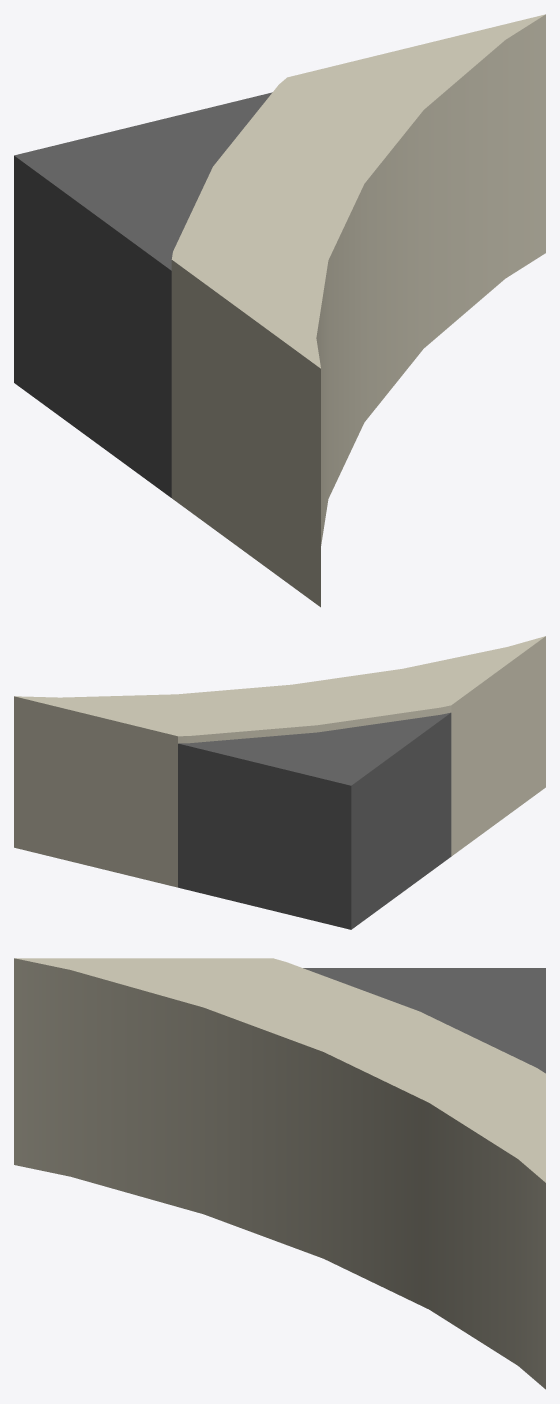
The model's file is tile216.dae.
The picture shows the model from 3 angles, top to bottom: view 1: azimuth 30°, elevation 25°; view 2: azimuth 150°, elevation 25°; view 3: azimuth 270°, elevation 25°; orthographic projection. The views are drawn at different scales.
Parts seen in each view (by area): view 1: tile216; view 2: tile216; view 3: tile216.
Boxes of the visible parts, x1,y1,x2,y2 form: tile216: [14, 14, 545, 607]; tile216: [14, 636, 545, 929]; tile216: [14, 958, 545, 1389].
Size of the model in its own units: 0.4897 by 0.21 by 0.4897.
